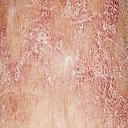Actinic: (6, 7, 123, 74)
